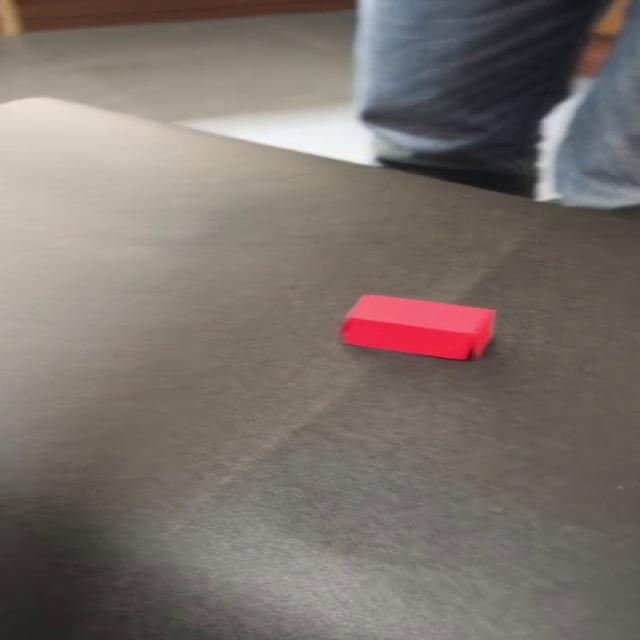red block: (339, 292, 496, 360)
